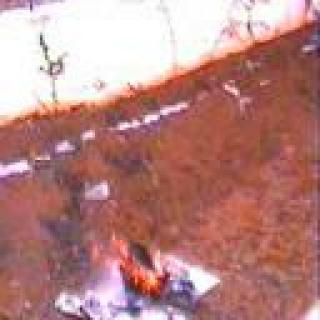fire: (85, 224, 193, 308)
